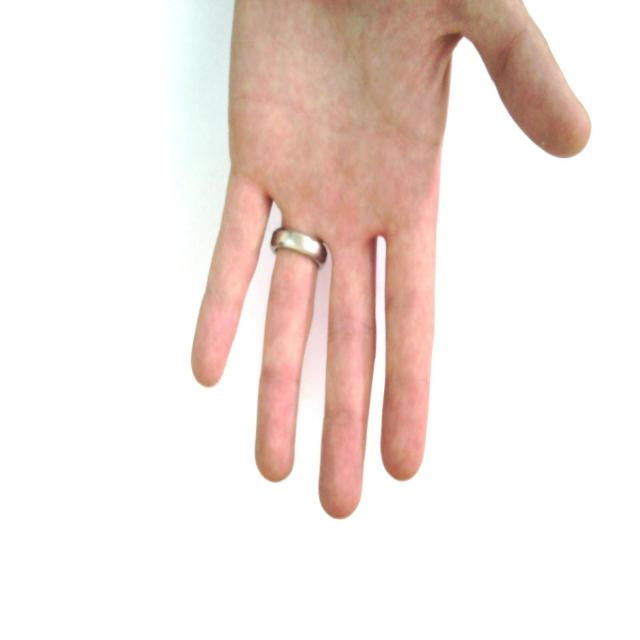others: (159, 0, 616, 519)
